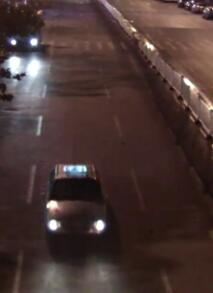car: (38, 160, 110, 246), (6, 22, 42, 51)
